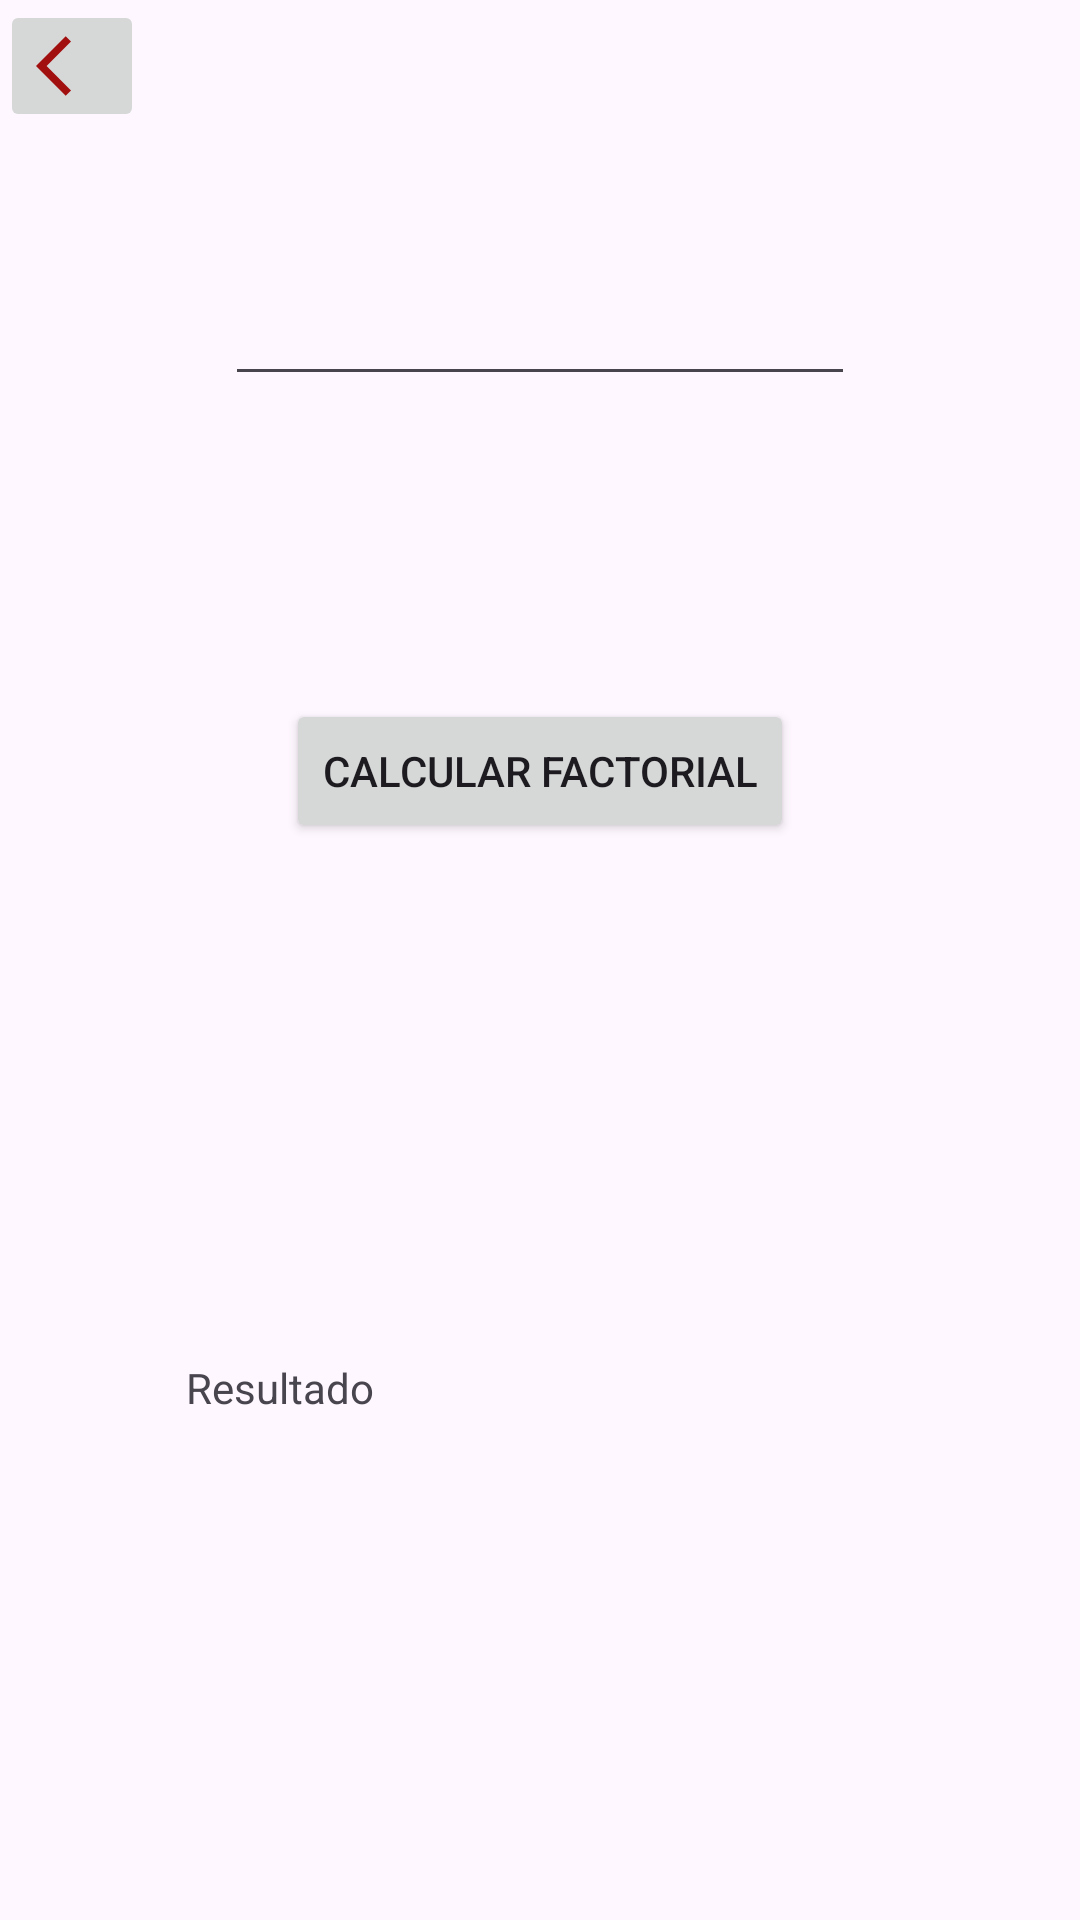

Locate icon controls on the screen. Image size 1080x1920, boxes as bbox(x1, y1, x2, y2).
arrow back: bbox(12, 18, 132, 114)
